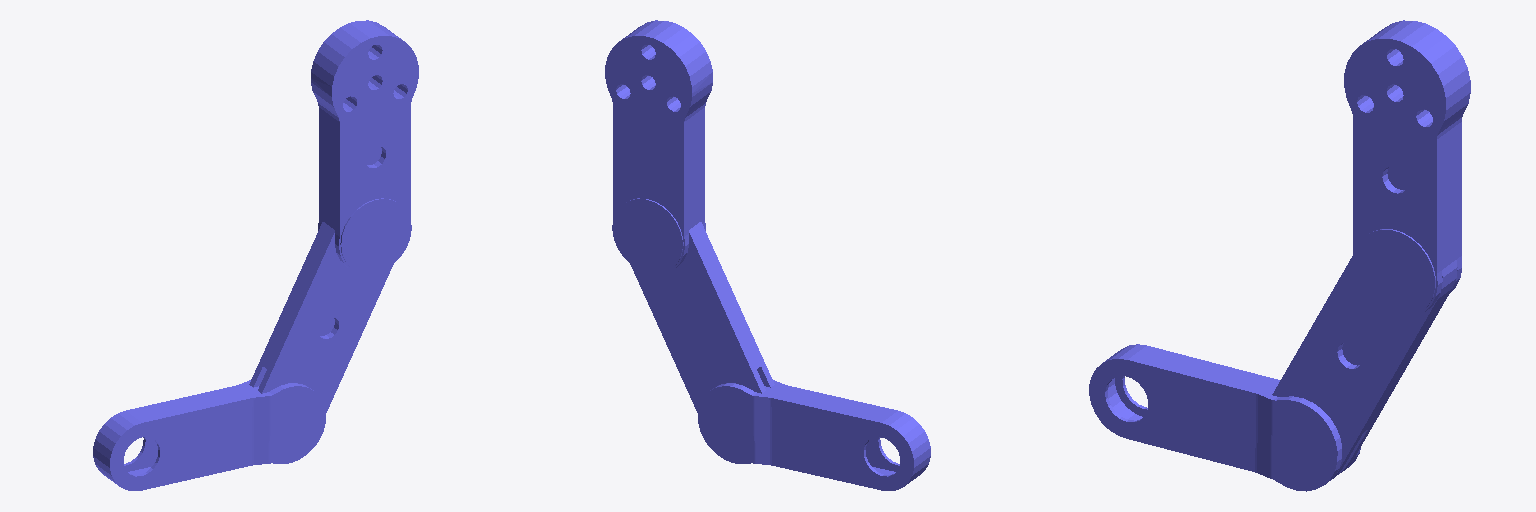
URDF robot description (SLDASM):
<?xml version="1.0" encoding="utf-8"?>
<!-- This URDF was automatically created by SolidWorks to URDF Exporter! Originally created by [author] ([email redacted]) 
     Commit Version: 1.6.0-1-g15f4949  Build Version: 1.6.7594.29634
     For more information, please see http://wiki.ros.org/sw_urdf_exporter -->
<robot
  name="SLDASM">
  <link
    name="base_link">
    <inertial>
      <origin
        xyz="0.0065983702120464 -0.336373566912517 -0.0257427295708327"
        rpy="0 0 0" />
      <mass
        value="2.13775890794895" />
      <inertia
        ixx="0.0447028692836465"
        ixy="-2.5312862195143E-05"
        ixz="-2.9476355384335E-07"
        iyy="0.00543037915506856"
        iyz="8.94085734844387E-06"
        izz="0.0447043656015194" />
    </inertial>
    <visual>
      <origin
        xyz="0 0 0"
        rpy="0 0 0" />
      <geometry>
        <mesh
          filename="package://SLDASM/meshes/base_link.STL" />
      </geometry>
      <material
        name="">
        <color
          rgba="0.792156862745098 0.819607843137255 0.933333333333333 1" />
      </material>
    </visual>
    <collision>
      <origin
        xyz="0 0 0"
        rpy="0 0 0" />
      <geometry>
        <mesh
          filename="package://SLDASM/meshes/base_link.STL" />
      </geometry>
    </collision>
  </link>
  <link
    name="link_1">
    <inertial>
      <origin
        xyz="5.89805981832114E-17 -0.0718597871210987 0.0257711623368515"
        rpy="0 0 0" />
      <mass
        value="0.979766055196368" />
      <inertia
        ixx="0.0074766954859981"
        ixy="-1.85324007286337E-19"
        ixz="-3.31141973402095E-20"
        iyy="0.00122674898370894"
        iyz="-3.56275974428909E-06"
        izz="0.00814613143305283" />
    </inertial>
    <visual>
      <origin
        xyz="0 0 0"
        rpy="0 0 0" />
      <geometry>
        <mesh
          filename="package://SLDASM/meshes/link_1.STL" />
      </geometry>
      <material
        name="">
        <color
          rgba="0.501960784313725 0.501960784313725 1 1" />
      </material>
    </visual>
    <collision>
      <origin
        xyz="0 0 0"
        rpy="0 0 0" />
      <geometry>
        <mesh
          filename="package://SLDASM/meshes/link_1.STL" />
      </geometry>
    </collision>
  </link>
  <joint
    name="joint_1"
    type="revolute">
    <origin
      xyz="0.0066366 -0.42337 -0.025756"
      rpy="1.5708 0 0" />
    <parent
      link="base_link" />
    <child
      link="link_1" />
    <axis
      xyz="0 0 1" />
    <limit
      lower="0"
      upper="0"
      effort="0"
      velocity="0" />
  </joint>
  <link
    name="link_2">
    <inertial>
      <origin
        xyz="0.0714907911021865 -0.0850635727661091 0.0138193723645501"
        rpy="0 0 0" />
      <mass
        value="0.735688332874957" />
      <inertia
        ixx="0.00440792668326031"
        ixy="0.00313162196554116"
        ixz="6.31427944540982E-07"
        iyy="0.00331369408456691"
        iyz="-7.5130679181106E-07"
        izz="0.0075818839430566" />
    </inertial>
    <visual>
      <origin
        xyz="0 0 0"
        rpy="0 0 0" />
      <geometry>
        <mesh
          filename="package://SLDASM/meshes/link_2.STL" />
      </geometry>
      <material
        name="">
        <color
          rgba="0.501960784313725 0.501960784313725 1 1" />
      </material>
    </visual>
    <collision>
      <origin
        xyz="0 0 0"
        rpy="0 0 0" />
      <geometry>
        <mesh
          filename="package://SLDASM/meshes/link_2.STL" />
      </geometry>
    </collision>
  </link>
  <joint
    name="joint_2"
    type="continuous">
    <origin
      xyz="0 -0.20072 0.012"
      rpy="0 0 -1.1868" />
    <parent
      link="link_1" />
    <child
      link="link_2" />
    <axis
      xyz="0 0 1" />
  </joint>
  <link
    name="link_3">
    <inertial>
      <origin
        xyz="-0.0637105119820373 -0.111883706228191 0.0139154535874636"
        rpy="0 0 0" />
      <mass
        value="0.454304812581279" />
      <inertia
        ixx="0.00178603962041251"
        ixy="0.00136247155952827"
        ixz="9.82815242359353E-20"
        iyy="0.00198152326365703"
        iyz="-1.21239940413446E-19"
        izz="0.00352875533740904" />
    </inertial>
    <visual>
      <origin
        xyz="0 0 0"
        rpy="0 0 0" />
      <geometry>
        <mesh
          filename="package://SLDASM/meshes/link_3.STL" />
      </geometry>
      <material
        name="">
        <color
          rgba="0.501960784313725 0.501960784313725 1 1" />
      </material>
    </visual>
    <collision>
      <origin
        xyz="0 0 0"
        rpy="0 0 0" />
      <geometry>
        <mesh
          filename="package://SLDASM/meshes/link_3.STL" />
      </geometry>
    </collision>
  </link>
  <joint
    name="joint_3"
    type="continuous">
    <origin
      xyz="0 -0.25 0"
      rpy="0 0 1.9202" />
    <parent
      link="link_2" />
    <child
      link="link_3" />
    <axis
      xyz="0 0 1" />
  </joint>
</robot>

--- Facts derived from the render (not from the file) ---
3 views of the same robot in one strip: view 1: azimuth 30°, elevation 25°; view 2: azimuth 150°, elevation 25°; view 3: azimuth 330°, elevation 25° (orthographic).
Robot: SLDASM — 4 links, 3 joints (1 revolute, 2 continuous); root link base_link; default pose: all joints at 0.
Visible links, largest first — view 1: link_1, link_3, link_2; view 2: link_1, link_3, link_2; view 3: link_1, link_3, link_2.
Boxes of the visible links, x1=… form: link_1: x1=311, y1=20, x2=418, y2=274; link_3: x1=93, y1=380, x2=325, y2=490; link_2: x1=249, y1=222, x2=393, y2=412; link_1: x1=605, y1=20, x2=712, y2=274; link_3: x1=698, y1=380, x2=930, y2=490; link_2: x1=630, y1=222, x2=774, y2=412; link_1: x1=1344, y1=20, x2=1470, y2=318; link_3: x1=1089, y1=344, x2=1360, y2=491; link_2: x1=1272, y1=256, x2=1457, y2=480.
Bounding box of the posed robot: 0.421 × 0.054 × 0.5312 m (x, y, z).
Meshes: 4 distinct files referenced, 3 mesh visuals loaded (3 binary STL); not drawn: 1 (reference not matched to a file when rendering).